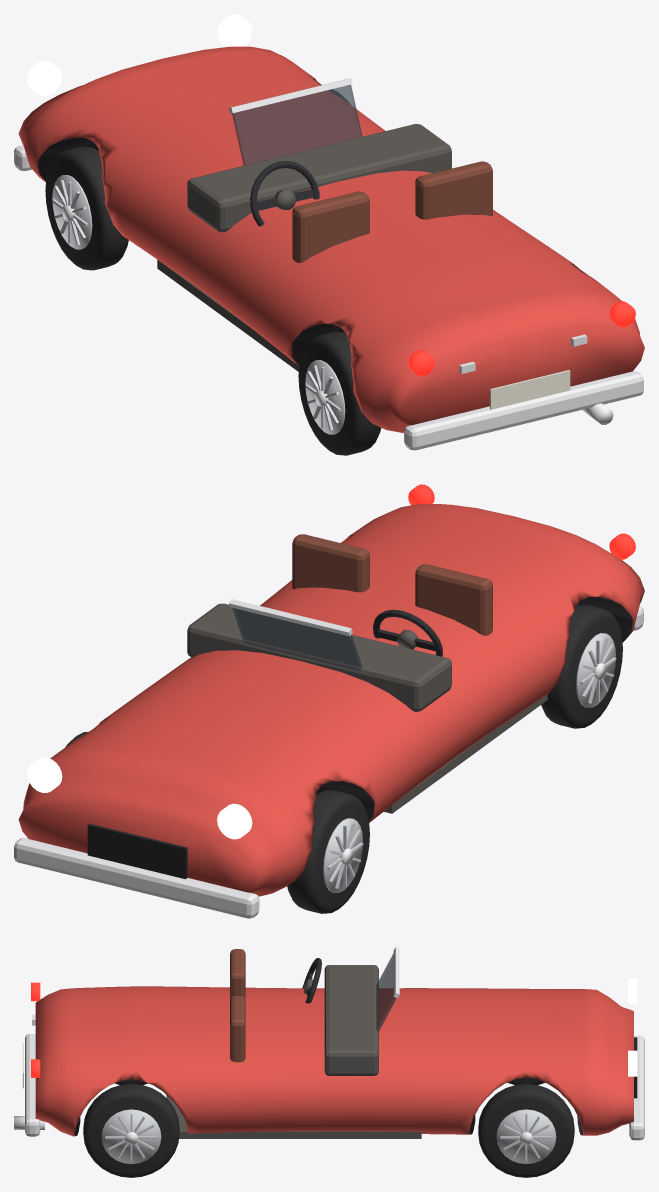
File: roadster.glb
3 views of the same model, one above another, from view 1: azimuth 30°, elevation 25°; view 2: azimuth 150°, elevation 25°; view 3: azimuth 270°, elevation 25° (orthographic). The views are drawn at different scales.
Parts seen in each view (by area): view 1: Body.009, Interior.009, Wheel_FL.009, Glass.009, Wheel_RL.009, Lights_Head.009, SteeringWheel.009, Lights_Tail.009; view 2: Body.009, Interior.009, Wheel_FL.009, Wheel_RL.009, Glass.009, Lights_Head.009, SteeringWheel.009, Lights_Tail.009; view 3: Body.009, Interior.009, Wheel_FR.009, Wheel_RR.009, Glass.009, Lights_Head.009, SteeringWheel.009, Lights_Tail.009.
Part boxes in pixels (x1=…): Body.009: x1=14, y1=46, x2=644, y2=450; Interior.009: x1=157, y1=124, x2=492, y2=371; Wheel_FL.009: x1=45, y1=146, x2=128, y2=270; Glass.009: x1=232, y1=84, x2=362, y2=165; Wheel_RL.009: x1=298, y1=331, x2=381, y2=455; Lights_Head.009: x1=27, y1=14, x2=252, y2=96; SteeringWheel.009: x1=250, y1=160, x2=319, y2=226; Lights_Tail.009: x1=408, y1=301, x2=635, y2=376; Body.009: x1=14, y1=504, x2=644, y2=918; Interior.009: x1=187, y1=534, x2=547, y2=813; Wheel_FL.009: x1=287, y1=790, x2=369, y2=913; Wheel_RL.009: x1=541, y1=604, x2=622, y2=728; Glass.009: x1=232, y1=608, x2=362, y2=671; Lights_Head.009: x1=27, y1=757, x2=252, y2=839; SteeringWheel.009: x1=373, y1=609, x2=442, y2=656; Lights_Tail.009: x1=408, y1=484, x2=635, y2=559; Body.009: x1=14, y1=947, x2=644, y2=1140; Interior.009: x1=166, y1=949, x2=421, y2=1138; Wheel_FR.009: x1=478, y1=1084, x2=574, y2=1177; Wheel_RR.009: x1=83, y1=1084, x2=179, y2=1177; Glass.009: x1=376, y1=953, x2=396, y2=1032; Lights_Head.009: x1=628, y1=978, x2=637, y2=1076; SteeringWheel.009: x1=302, y1=958, x2=321, y2=1003; Lights_Tail.009: x1=31, y1=982, x2=40, y2=1077.
Bounding box in the file's own units: 1.64 × 1.13 × 4.06.
